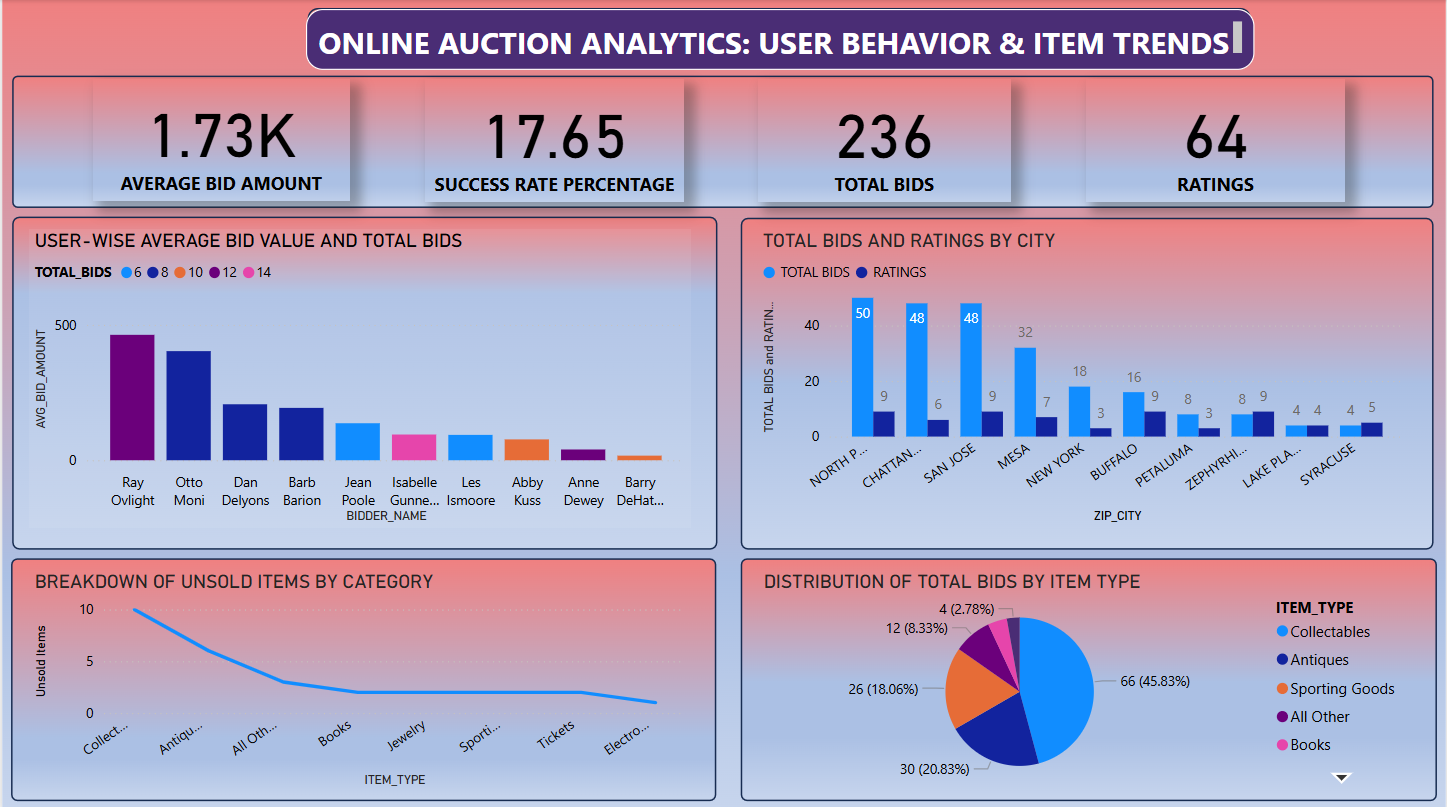

This screenshot's page, from the dashboard's own definition file:
{"tool":"powerbi","page":{"name":"Page 1","canvas":[1280,720],"ordinal":0},"visuals":[{"type":"card","fields":{"Values":["Auction Success %.SUCCESS_RATE_PERCENTAGE"]},"box":[374.8,70,229.7,109.1],"z":5000},{"type":"columnChart","title":"USER-WISE AVERAGE BID VALUE AND TOTAL BIDS","fields":{"Category":["Bidders.BIDDER_NAME"],"Y":["Bidders.AVG_BID_AMOUNT"],"Series":["Bidders.TOTAL_BIDS"]},"box":[23.9,203.1,587,265.1],"z":6000},{"type":"pieChart","title":"DISTRIBUTION OF TOTAL BIDS BY ITEM TYPE","fields":{"Category":["Items.ITEM_TYPE"],"Y":["Items.TOTAL_BIDS"]},"box":[670.3,505.4,579,196.8],"z":7000},{"type":"lineChart","title":"BREAKDOWN OF UNSOLD ITEMS BY CATEGORY","fields":{"Category":["ItemType.ITEM_TYPE"],"Y":["ItemType.UNSOLD_COUNT"]},"box":[23.9,505.4,587,196.8],"z":8000},{"type":"clusteredColumnChart","title":"TOTAL BIDS AND RATINGS BY CITY","fields":{"Y":["Location.TOTAL_BIDS","Location.RATING_VALUE"],"Category":["Location.ZIP_CITY"]},"box":[669.5,203.1,579.9,265.1],"z":9000},{"type":"textbox","box":[269.6,8,840.6,54.1],"z":10000},{"type":"card","fields":{"Values":["Bidders.AVG_BID_AMOUNT"]},"box":[80.7,70.5,227.9,108.2],"z":11000},{"type":"card","fields":{"Values":["Location.TOTAL_BIDS"]},"box":[670.6,70,224.3,109.1],"z":12000},{"type":"card","fields":{"Values":["Location.RATING_VALUE"]},"box":[961.2,70,229.7,109.1],"z":13000}]}

Visuals, with their boxes in screenshot pixels (x1, y1, x2, y2), scaled from the page's 1280x720 canvas onto the 1447x807 screenshot:
card - Auction Success %.SUCCESS_RATE_PERCENTAGE: bbox(424, 78, 683, 201)
"USER-WISE AVERAGE BID VALUE AND TOTAL BIDS" columnChart: bbox(27, 228, 691, 525)
"DISTRIBUTION OF TOTAL BIDS BY ITEM TYPE" pieChart: bbox(758, 566, 1412, 787)
"BREAKDOWN OF UNSOLD ITEMS BY CATEGORY" lineChart: bbox(27, 566, 691, 787)
"TOTAL BIDS AND RATINGS BY CITY" clusteredColumnChart: bbox(757, 228, 1412, 525)
textbox: bbox(305, 9, 1255, 70)
card - Bidders.AVG_BID_AMOUNT: bbox(91, 79, 349, 200)
card - Location.TOTAL_BIDS: bbox(758, 78, 1012, 201)
card - Location.RATING_VALUE: bbox(1087, 78, 1346, 201)
